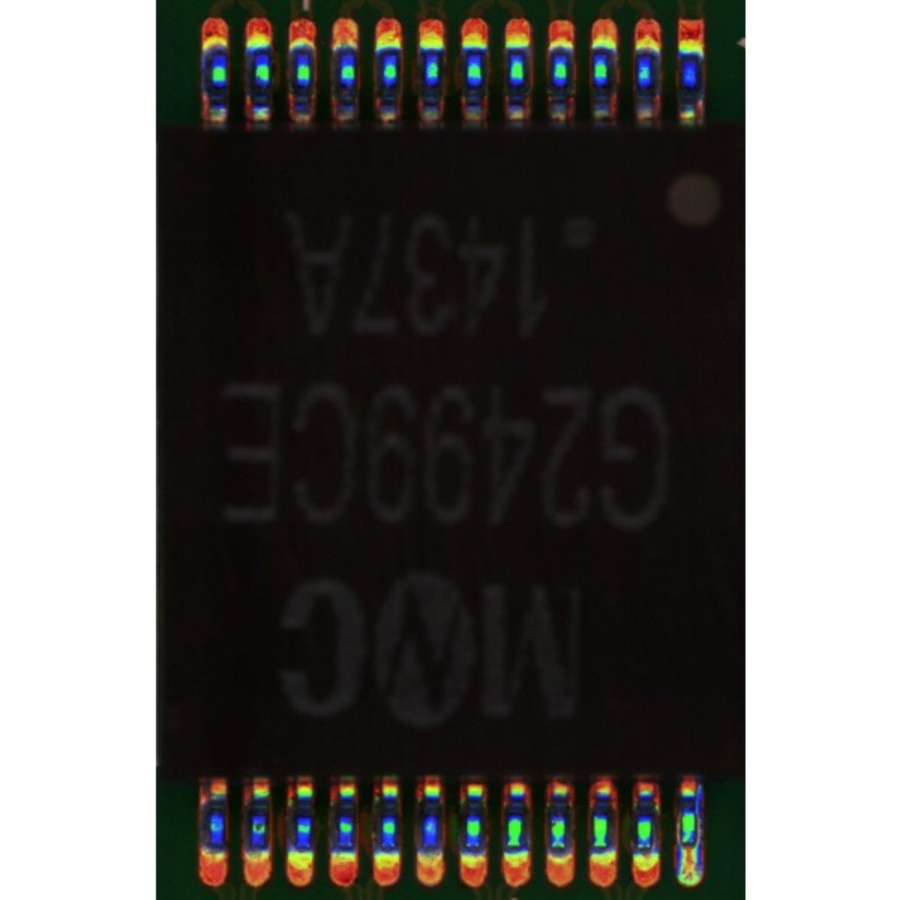Bad_podu: (681, 831, 695, 863)
Bad_qiaojiao: (697, 786, 706, 847)
